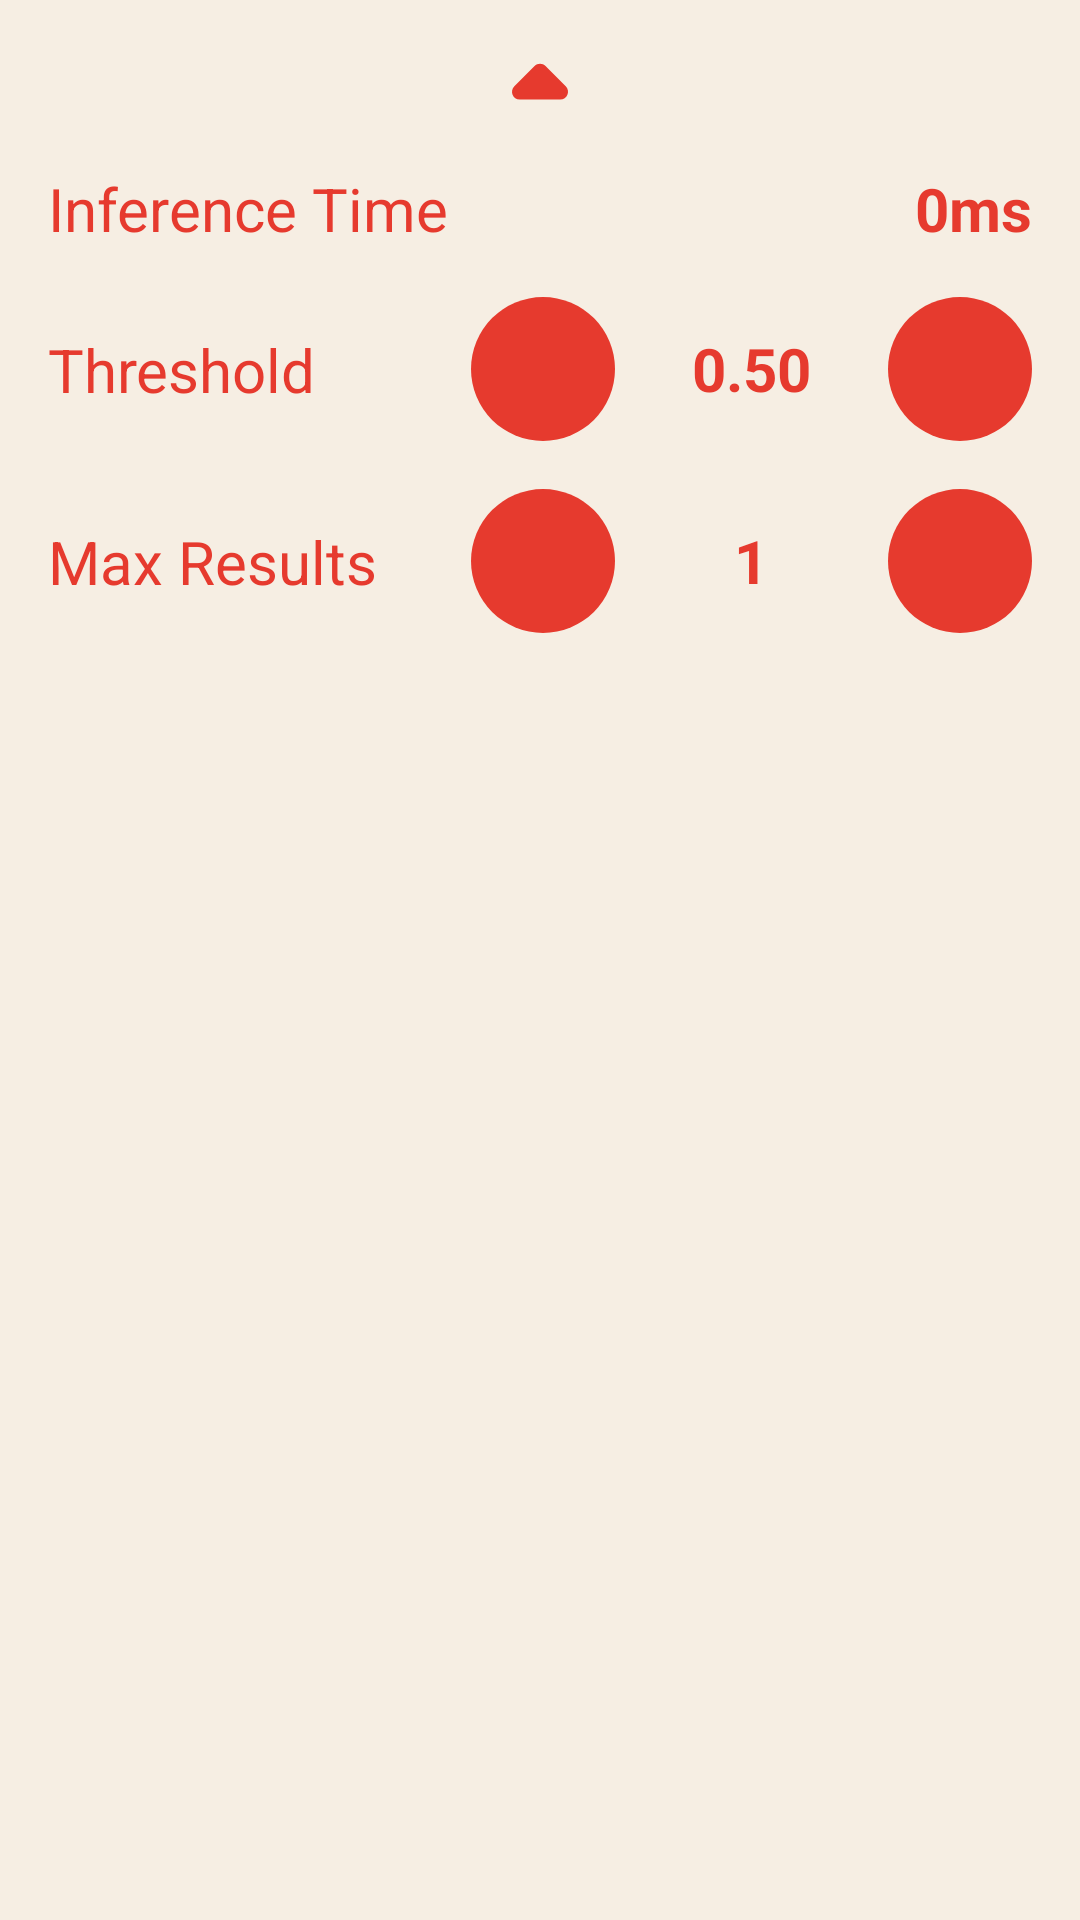

Screen size 1080w x 1920h. Icon name, then its box in pixels as region(x1, y1, x2, y2):
Bottom sheet expandable indicator: region(512, 63, 568, 100)
